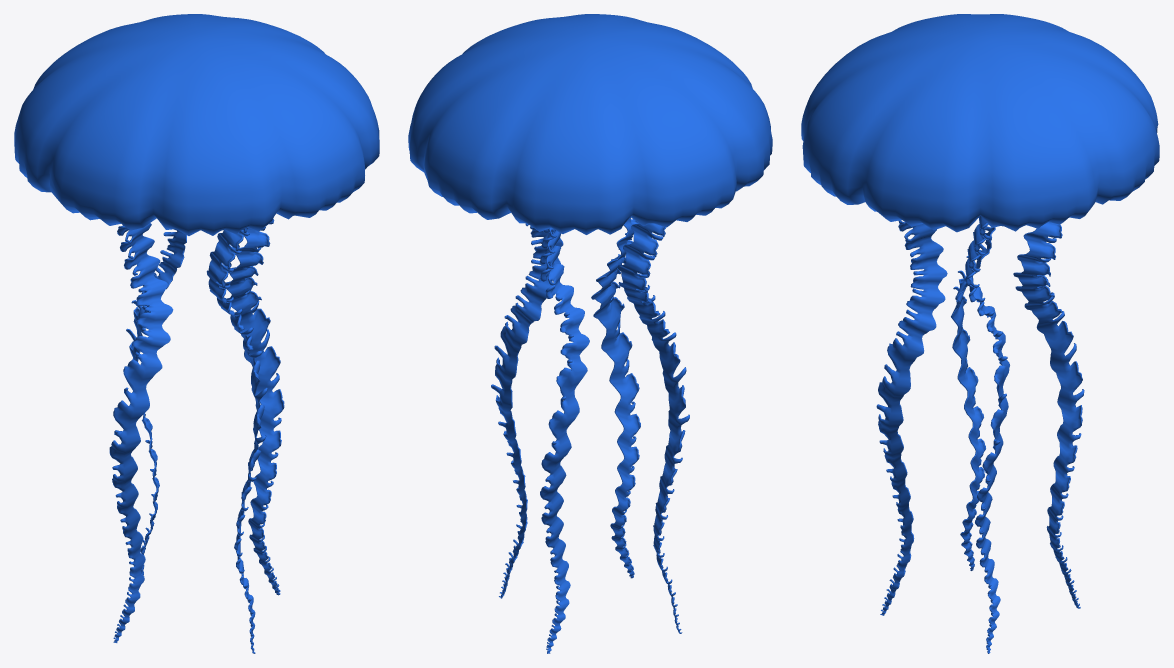
File: jelly.glb
3 views of the same model, side by side, from view 1: azimuth 30°, elevation 25°; view 2: azimuth 150°, elevation 25°; view 3: azimuth 270°, elevation 25° (orthographic).
Parts seen in each view (by area): view 1: jellyfish.001; view 2: jellyfish.001; view 3: jellyfish.001.
Boxes of the visible parts, x1,y1,x2,y2 form: jellyfish.001: [14, 14, 379, 653]; jellyfish.001: [408, 14, 772, 653]; jellyfish.001: [801, 14, 1159, 653].
Bounding box in the file's own units: 3.94 × 6.98 × 3.94.
